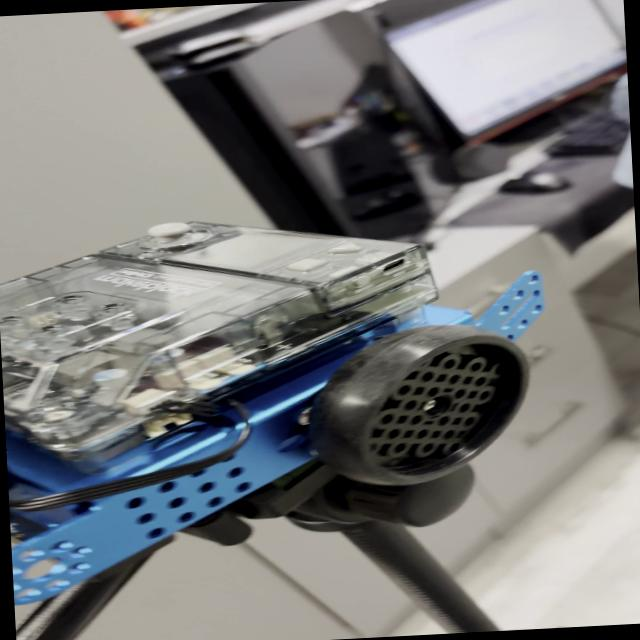mbot-detection: (0, 192, 574, 613)
